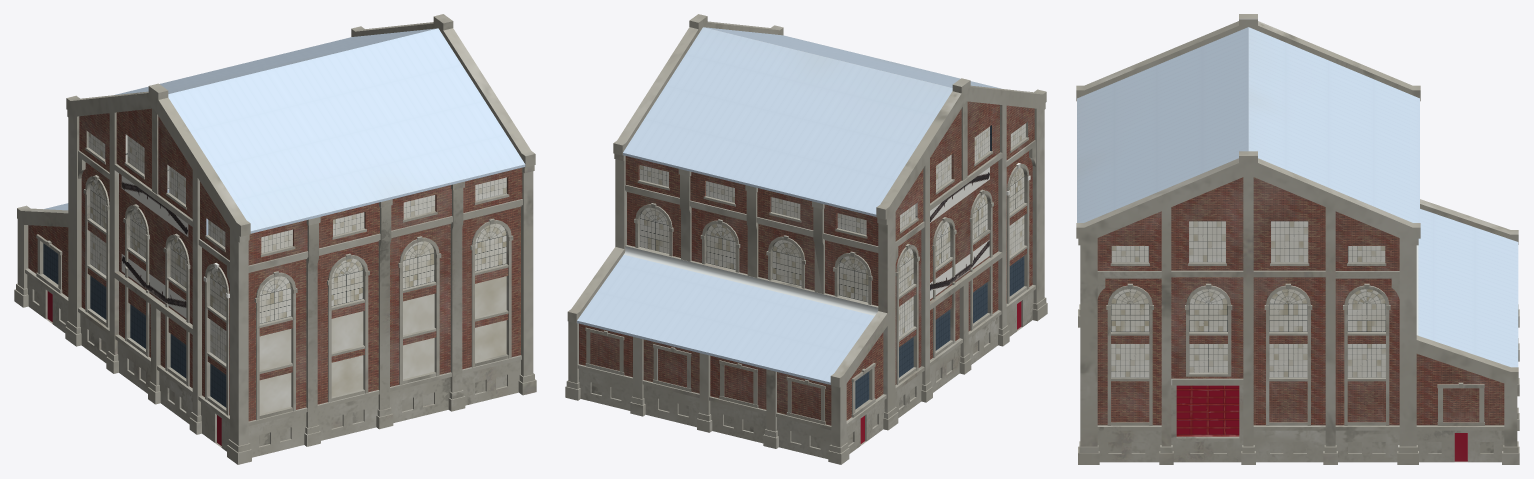
3 renders of one model, left to right at view 1: azimuth 30°, elevation 25°; view 2: azimuth 150°, elevation 25°; view 3: azimuth 270°, elevation 25°, orthographic. The views are drawn at different scales.
Parts seen in each view (by area): view 1: Hoist_building; view 2: Hoist_building; view 3: Hoist_building.
Boxes of the visible parts, x1,y1,x2,y2 form: Hoist_building: (14, 14, 536, 464); Hoist_building: (565, 14, 1047, 464); Hoist_building: (1076, 14, 1519, 464).
Bounding box in the file's own units: 23.69 × 23.63 × 30.83.
1 material, 1 textured.
